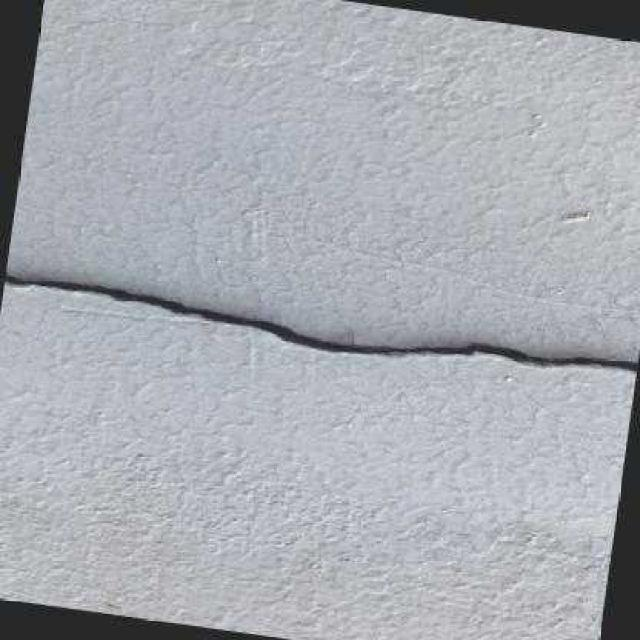D00: (2, 272, 637, 373)
